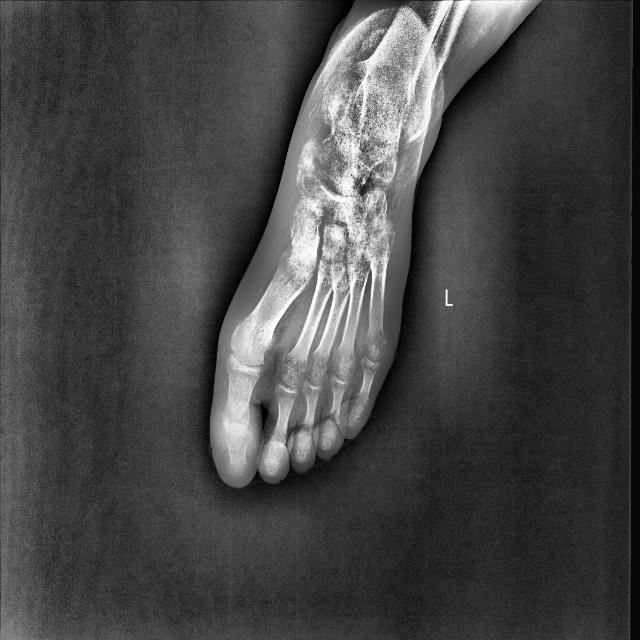Fracture: (281, 237, 316, 281)
